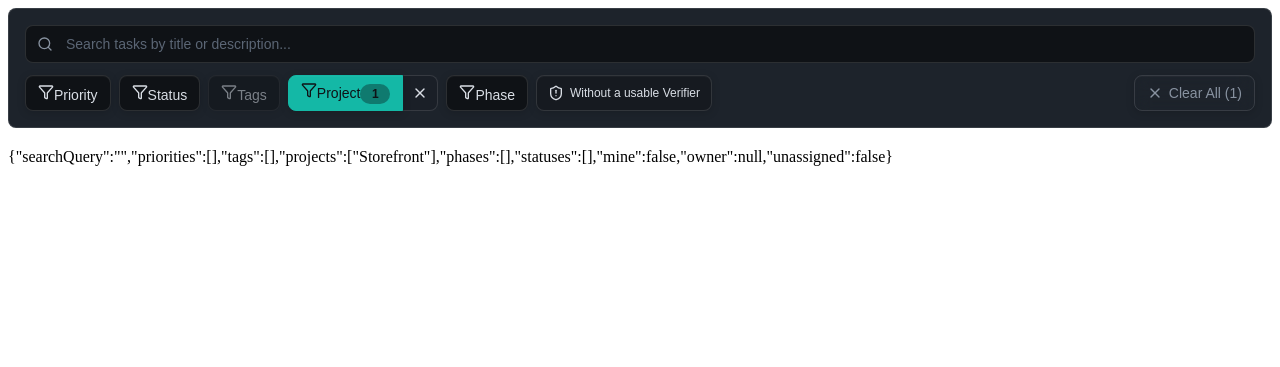
Test: "Search phases" — the Project search’s behaviour, on name and number › searches within the Project scope, never past it
Click the button "Phase" at (487, 93), box top-left (446, 75), bottom-right (528, 111)
Wait 20 ms
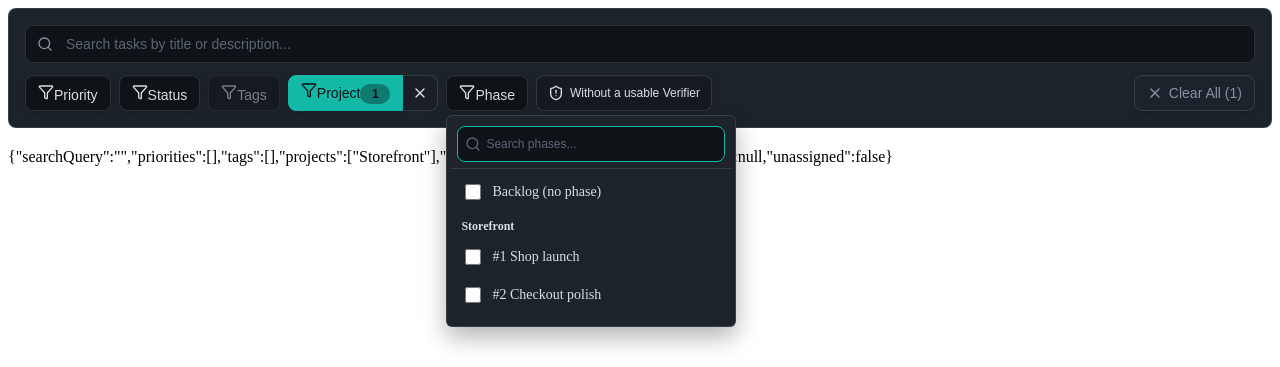
Type "release" into the field labelled "Search phases" at (591, 144), box top-left (457, 126), bottom-right (725, 162)
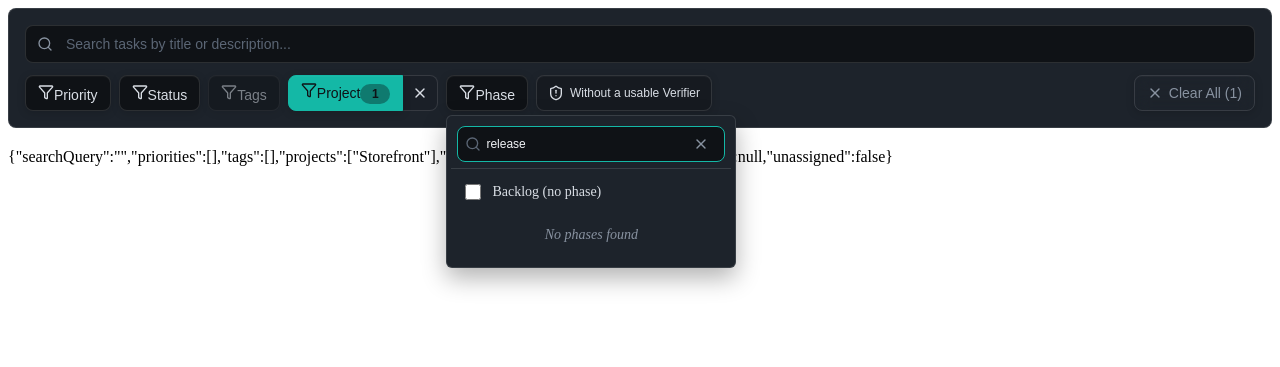
Check: the text "No phases found" is shown, box top-left (545, 227), bottom-right (638, 242)
